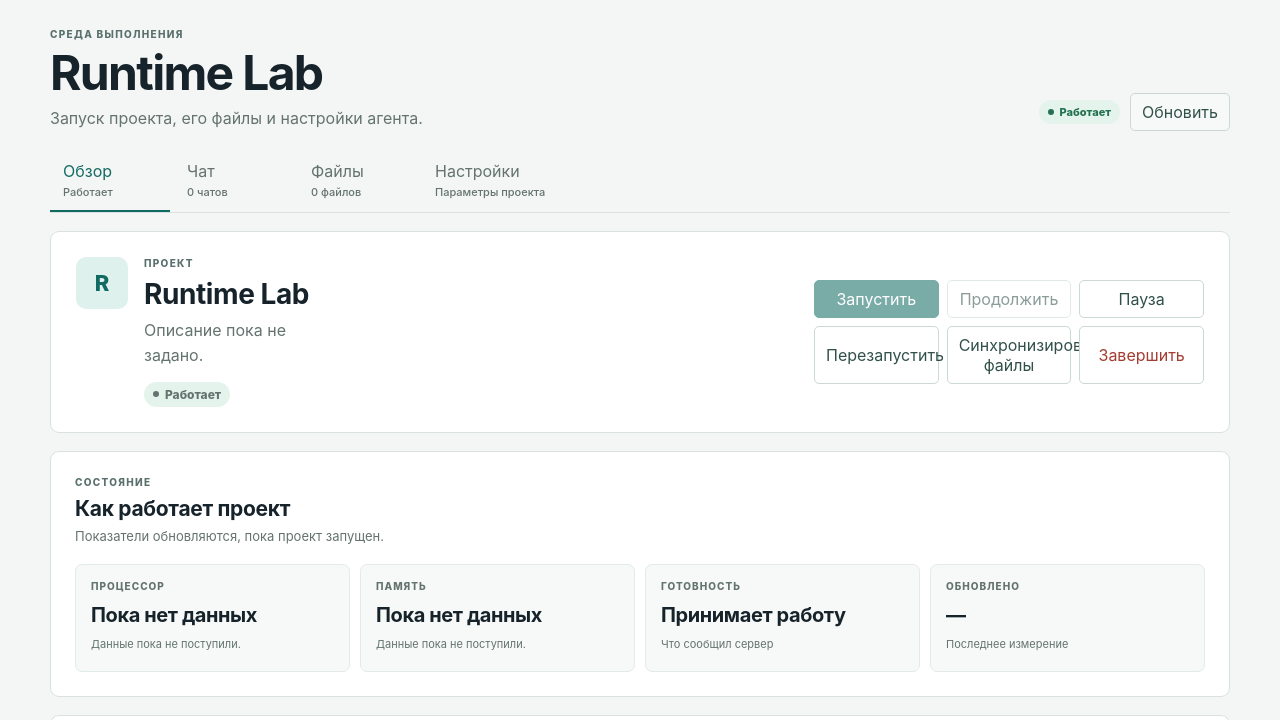
Scenario: ProjectRuntime component workflow › refreshes the readback from the backend
Click the button "Обновить": (1180, 112) [1130,93,1230,131]
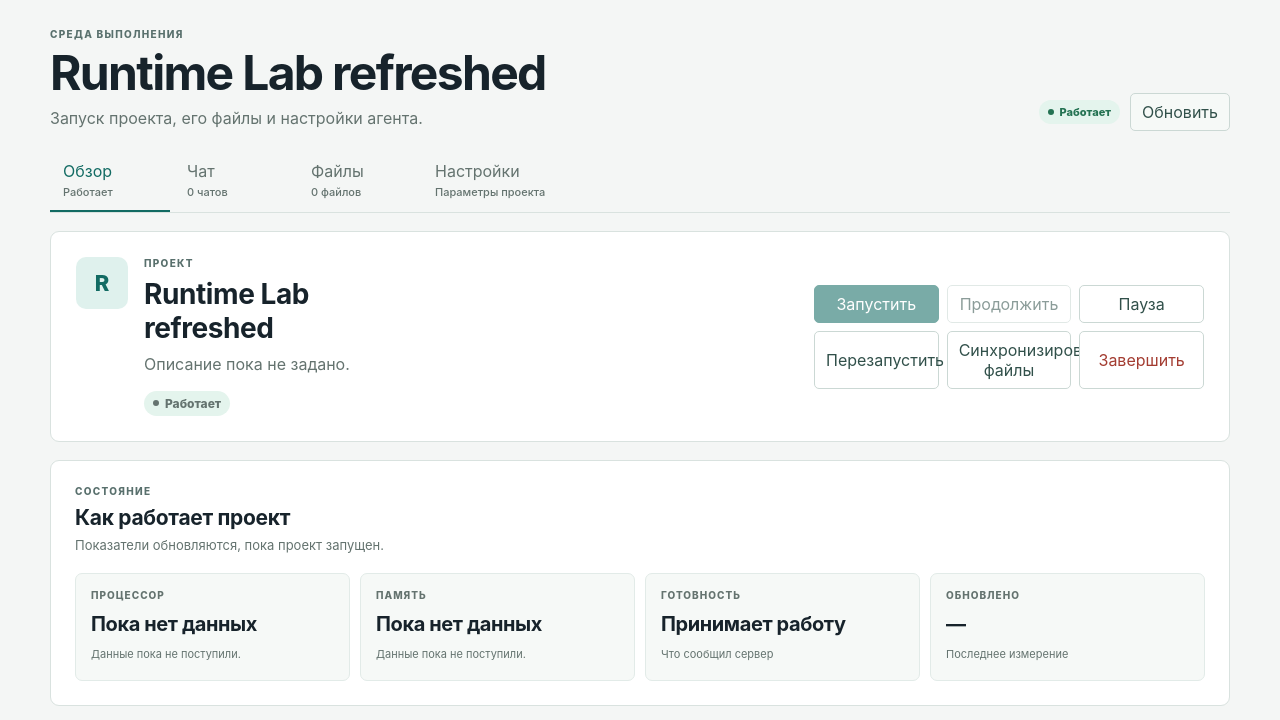
expect the text "Runtime Lab refreshed" is shown: met, box [50,48,546,98]
